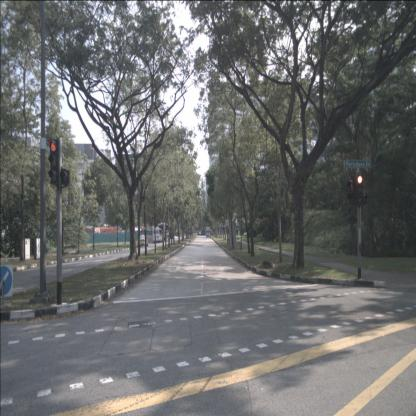vehicle-bus-rigid: (158, 223, 170, 241)
vehicle-car: (153, 228, 162, 242), (138, 235, 148, 247)
vehicle-truck: (206, 226, 210, 238)
